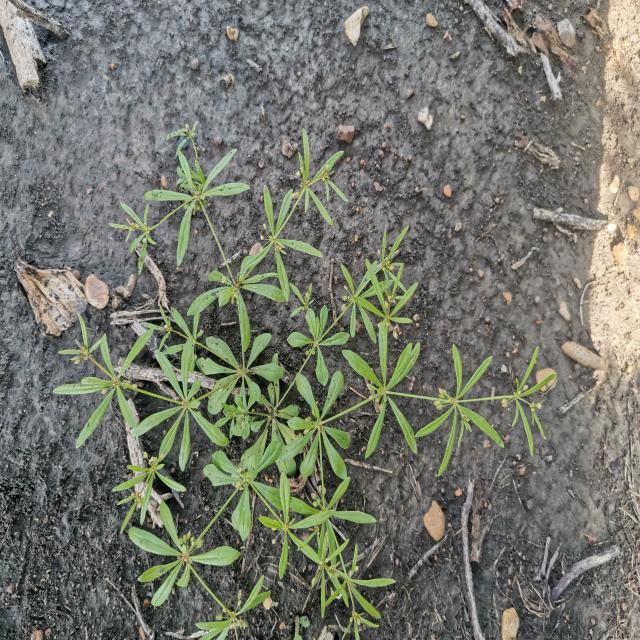Carpetweed: (52, 120, 558, 639)
